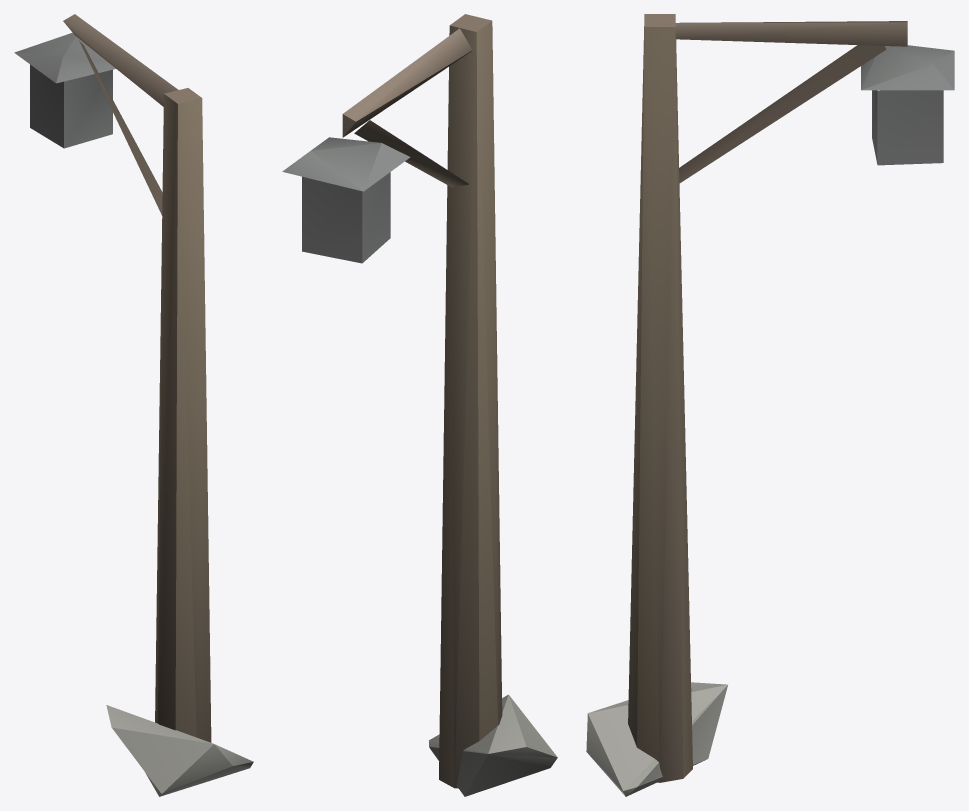
The model's file is lantern.lod2.glb.
The picture shows the model from 3 angles, left to right: view 1: azimuth 30°, elevation 25°; view 2: azimuth 150°, elevation 25°; view 3: azimuth 270°, elevation 25°; orthographic projection. The views are drawn at different scales.
Size of the model in its own units: 0.5356 by 3 by 1.34.
